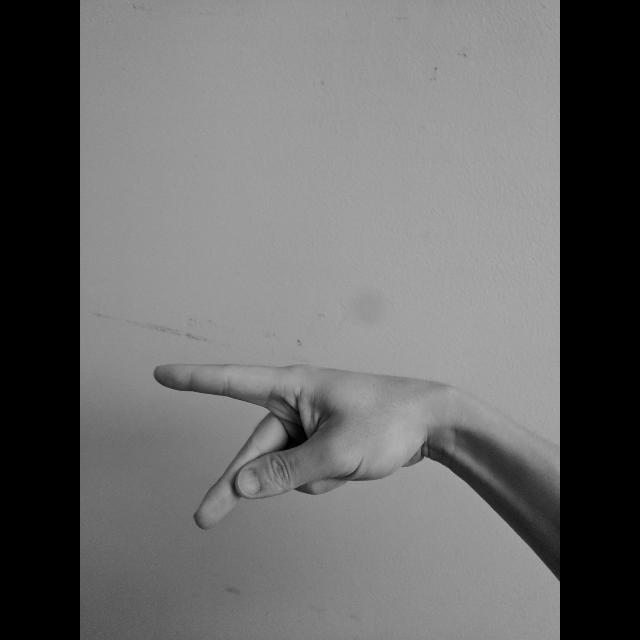P: (149, 358, 435, 532)
